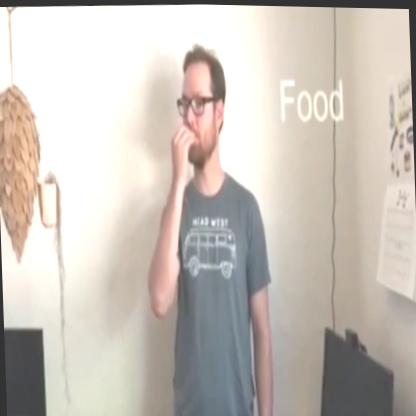Food: (151, 36, 239, 182)
